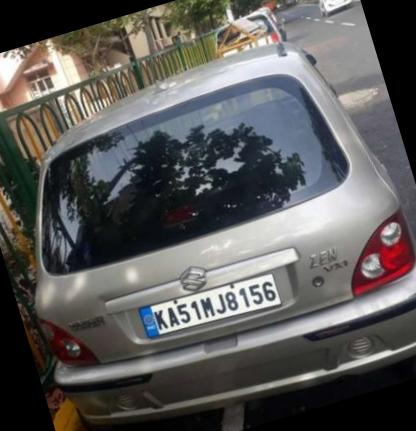plate: (129, 261, 293, 359)
